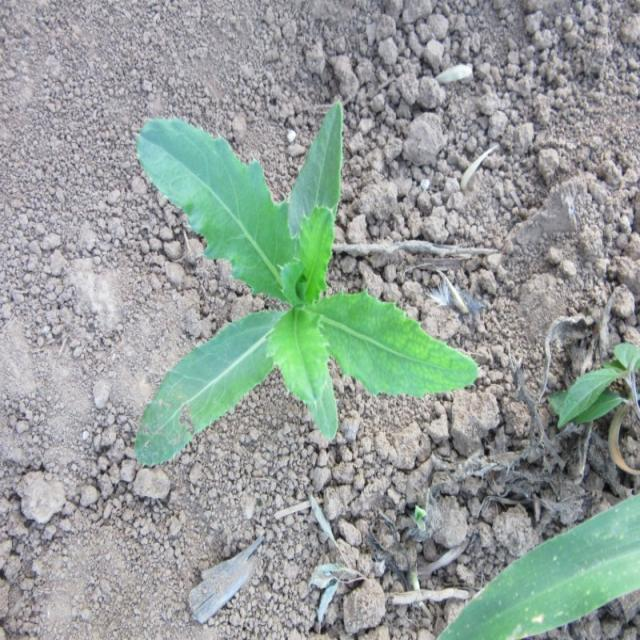cs: (133, 96, 481, 472)
